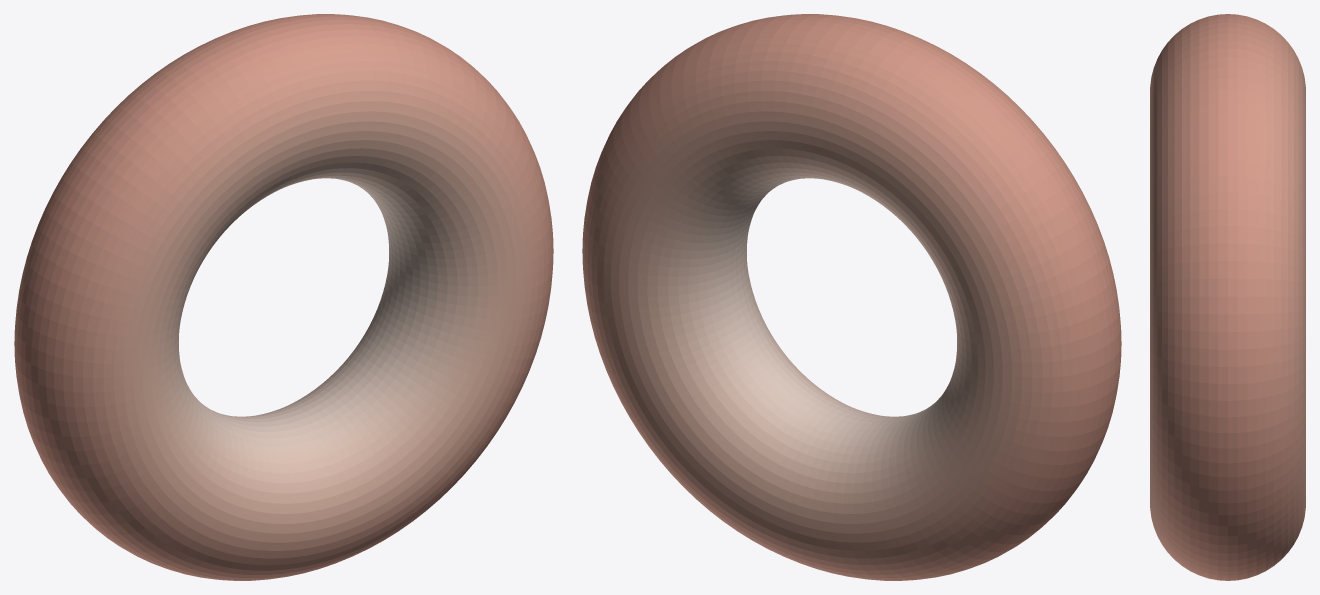
The picture shows the model from 3 angles, left to right: view 1: azimuth 30°, elevation 25°; view 2: azimuth 150°, elevation 25°; view 3: azimuth 270°, elevation 25°; orthographic projection. The views are drawn at different scales.
Parts seen in each view (by area): view 1: world; view 2: world; view 3: world.
Boxes of the visible parts, x1,y1,x2,y2 form: world: [14, 14, 553, 580]; world: [582, 14, 1121, 580]; world: [1150, 14, 1305, 580].
Size of the model in its own units: 27.6 by 27.6 by 7.59.
